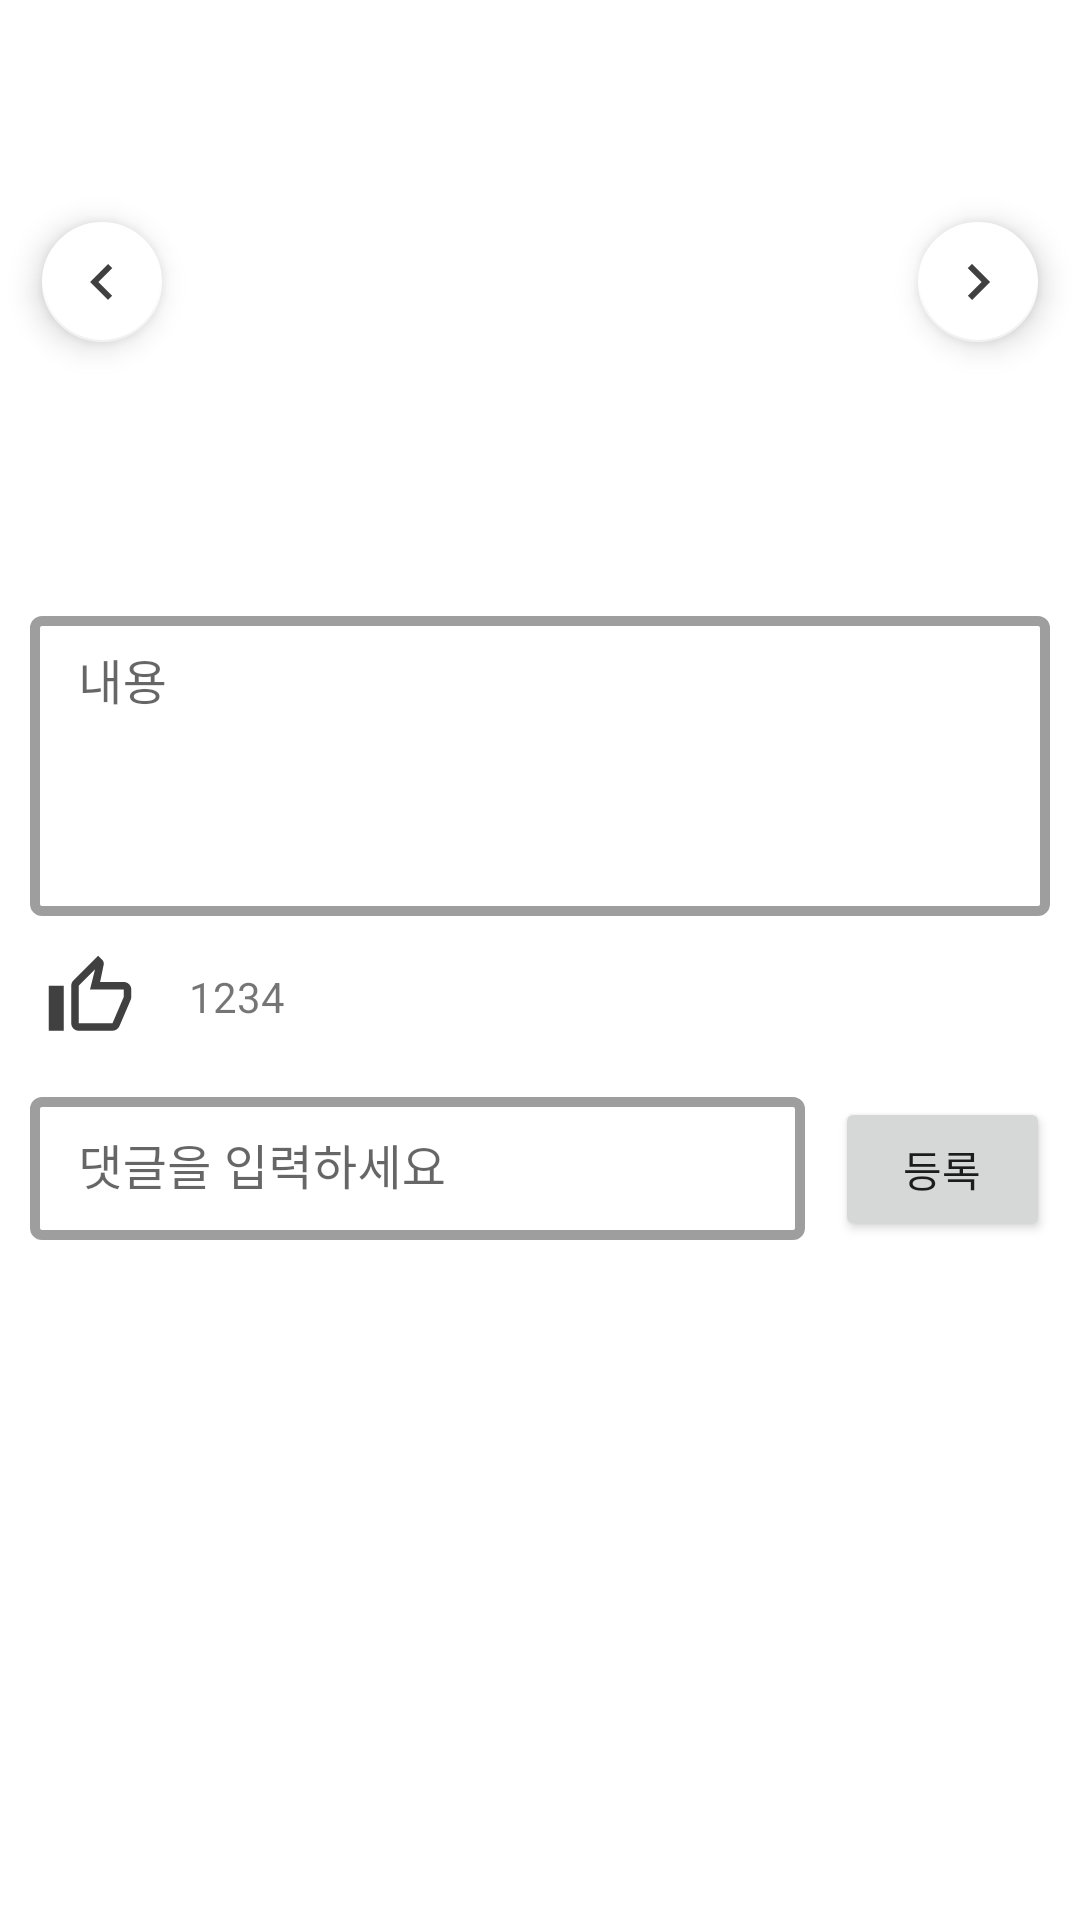

Screen size 1080px x 1920px. Icon name, then its box in pixels as (x1, y1, x2, y2):
left: (40, 245, 115, 343)
right: (965, 245, 1040, 343)
thumb: (48, 956, 132, 1031)
